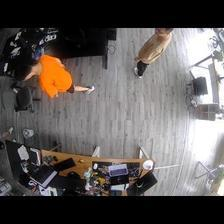normal: (12, 55, 97, 97), (132, 28, 174, 78)
